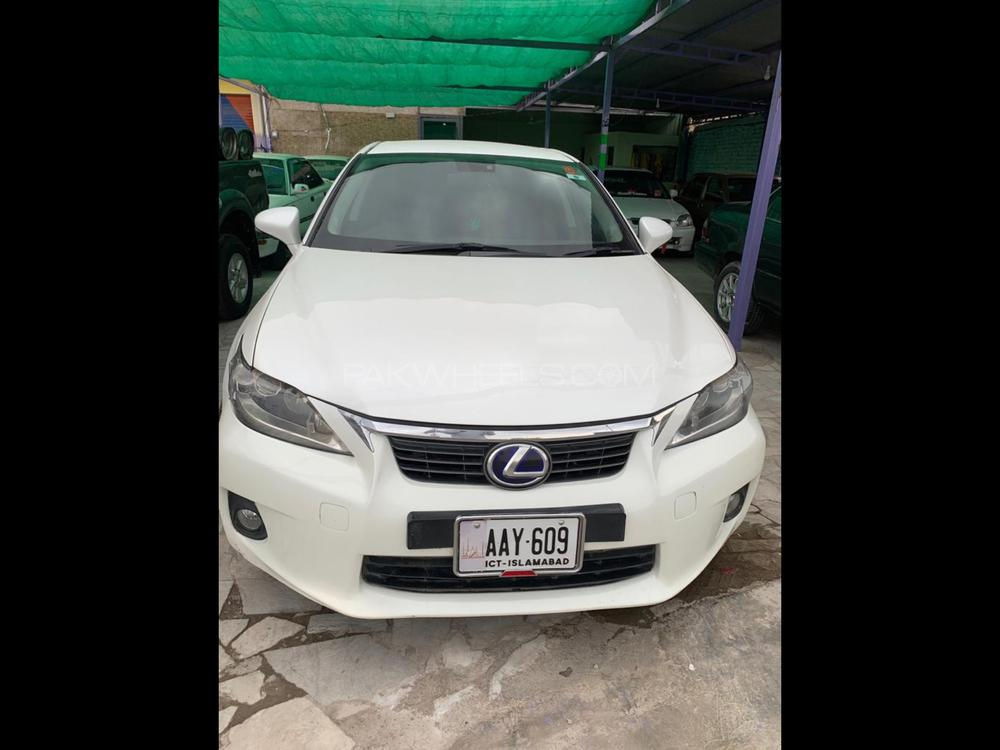license plate: (456, 517, 583, 574)
